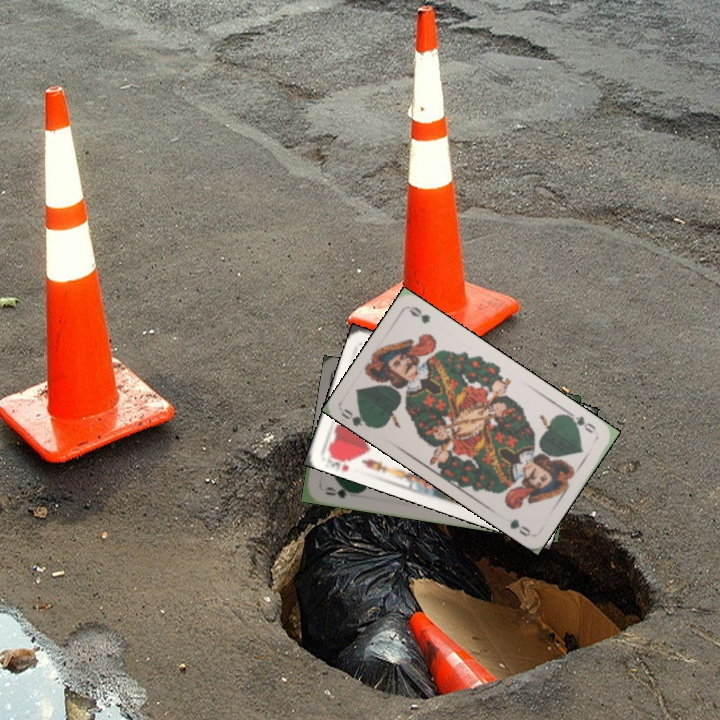GO: (337, 405, 376, 431), (563, 408, 598, 436), (320, 483, 358, 501)
HK: (324, 447, 358, 474)
